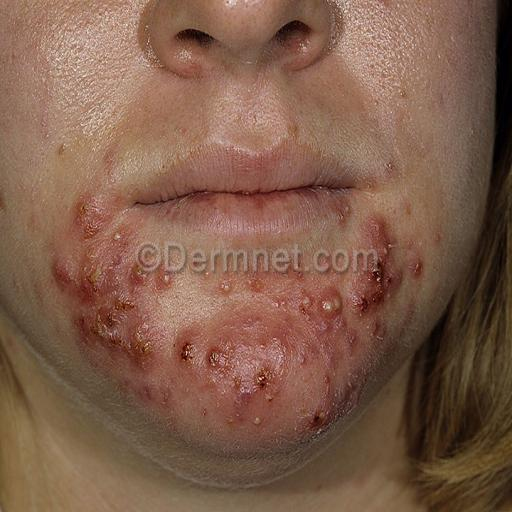Skin_Lesion: (22, 174, 174, 380), (362, 219, 416, 343), (288, 276, 348, 341), (179, 316, 227, 394), (306, 363, 358, 435), (245, 351, 292, 428), (215, 276, 272, 303), (338, 195, 359, 230)
